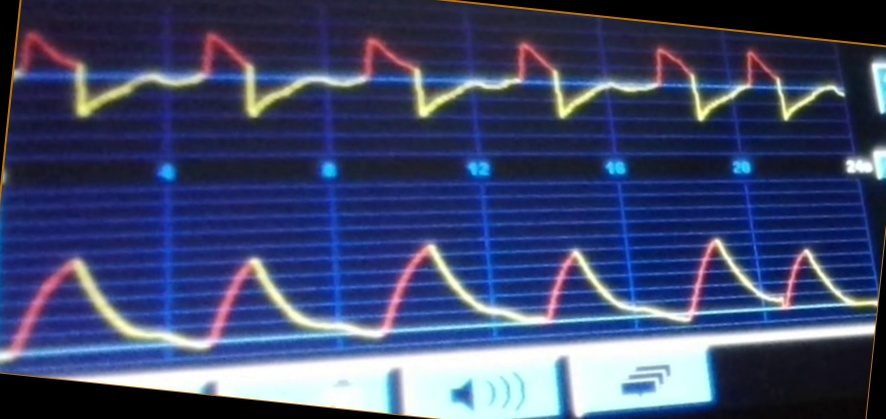Ineffective_effort Flow: (18, 16, 845, 138)
Ineffective_effort Volume: (1, 216, 875, 357)
